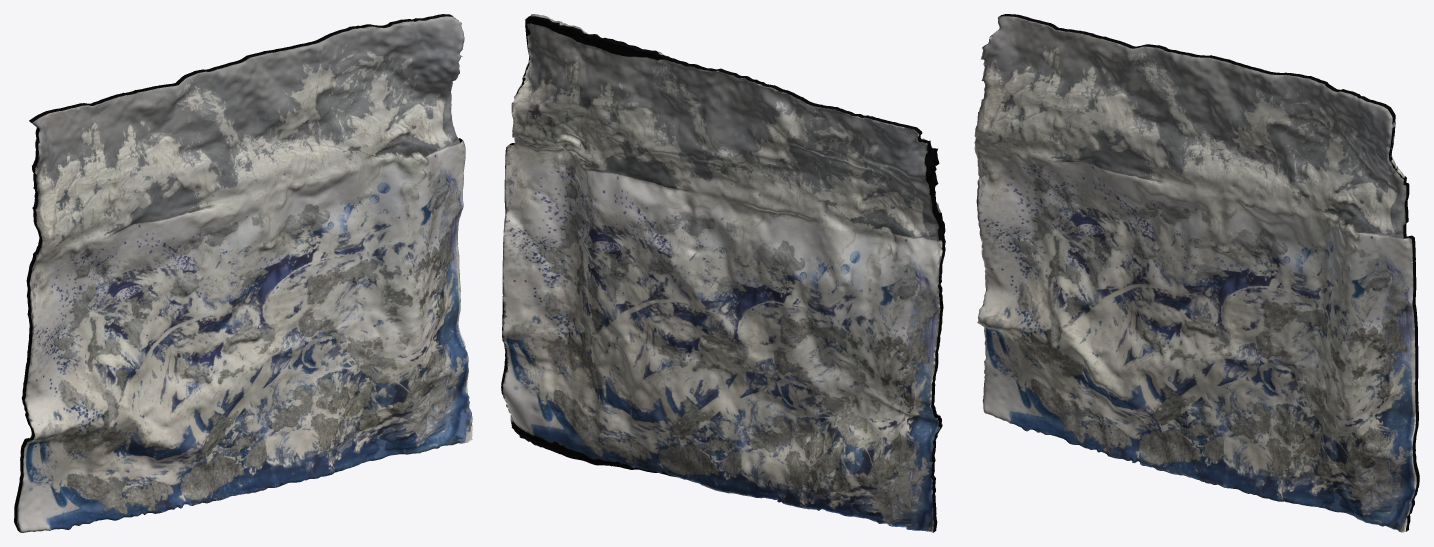
File: relief.opt.glb
3 views of the same model, side by side, from view 1: azimuth 30°, elevation 25°; view 2: azimuth 150°, elevation 25°; view 3: azimuth 330°, elevation 25° (orthographic). The views are drawn at different scales.
Parts seen in each view (by area): view 1: relief_target; view 2: relief_target; view 3: relief_target.
Boxes of the visible parts, box(x1,y1,x2,y2) form: relief_target: box(14, 14, 472, 532); relief_target: box(501, 14, 945, 532); relief_target: box(974, 14, 1419, 532).
Bounding box in the file's own units: 1.02 × 0.9553 × 0.0814.
Materials: 1 (1 with a texture image).
